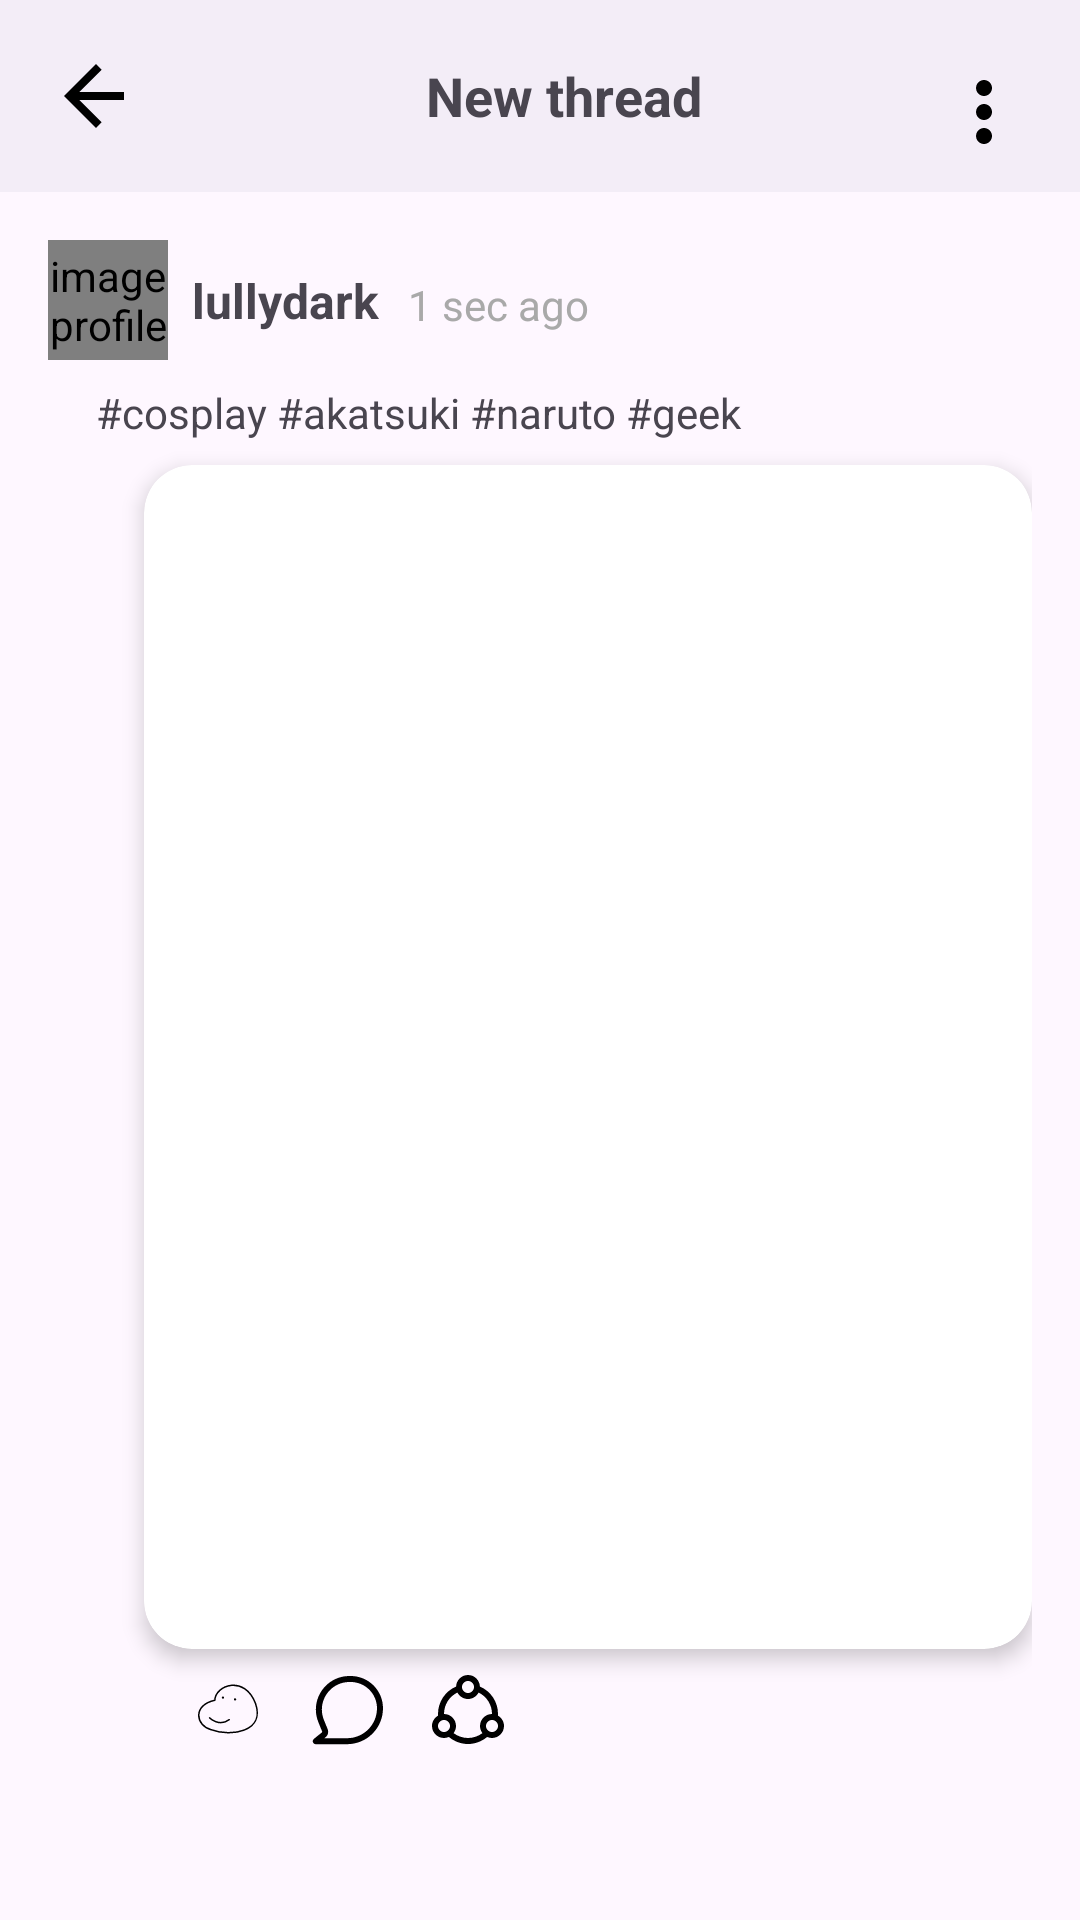

Icons on this 1080×1920 Android screen, each with its box as Rect(x1, y1, x2, y2):
Back: Rect(64, 64, 124, 128)
Icon Comment: Rect(312, 1676, 383, 1745)
Icon Share: Rect(432, 1675, 504, 1744)
More Option: Rect(976, 80, 992, 144)
